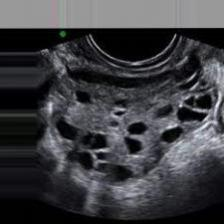pcos: (50, 57, 224, 191)
